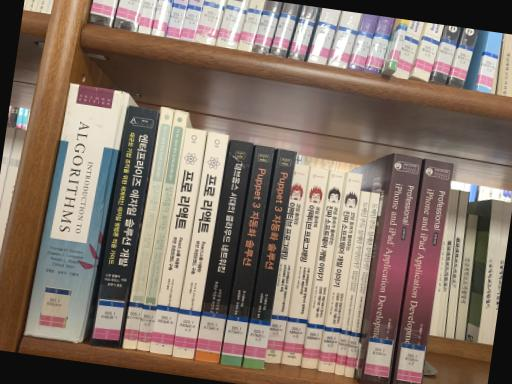book-spine: (24, 83, 130, 342), (89, 106, 158, 348), (359, 154, 422, 384), (392, 159, 453, 384), (148, 127, 206, 355), (171, 132, 229, 359), (195, 140, 254, 363), (136, 109, 189, 351), (122, 107, 174, 349), (220, 144, 275, 366), (244, 148, 296, 369), (282, 166, 330, 366), (264, 163, 310, 364), (319, 172, 363, 373), (302, 170, 345, 369), (345, 192, 380, 377), (336, 191, 371, 375)
